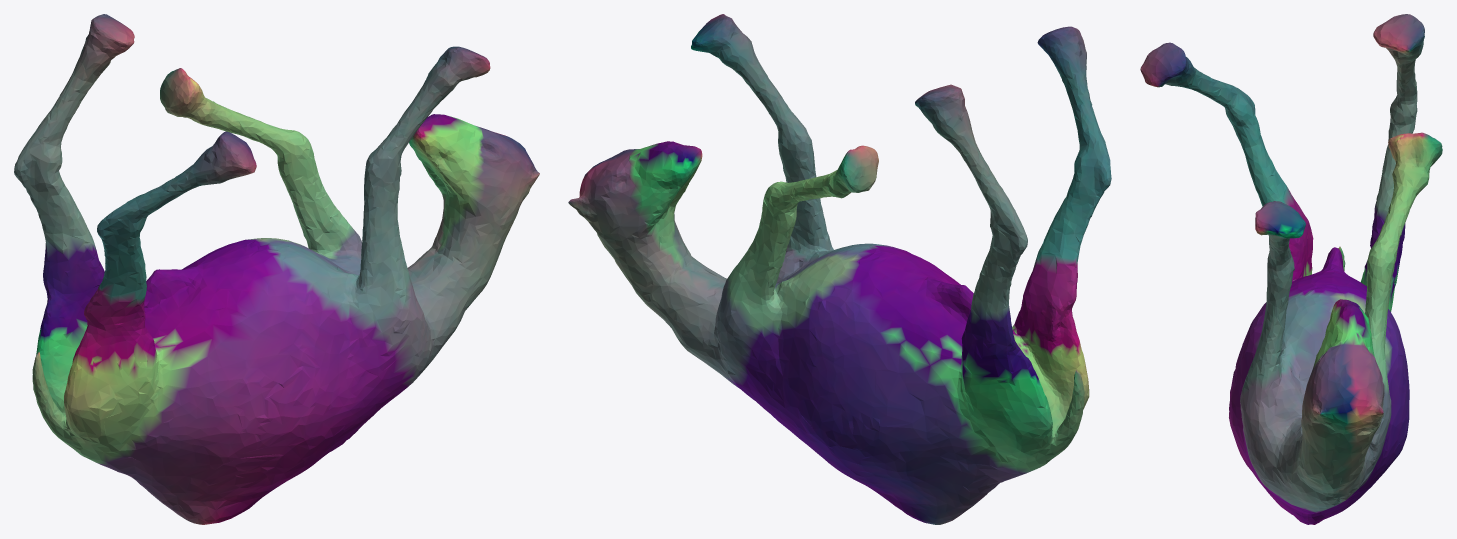
The model's file is camel-1.off.obj.
3 renders of one model, left to right at view 1: azimuth 30°, elevation 25°; view 2: azimuth 150°, elevation 25°; view 3: azimuth 270°, elevation 25°, orthographic. The views are drawn at different scales.
Bounding box in the file's own units: 1.5 × 1.4 × 0.8135.
